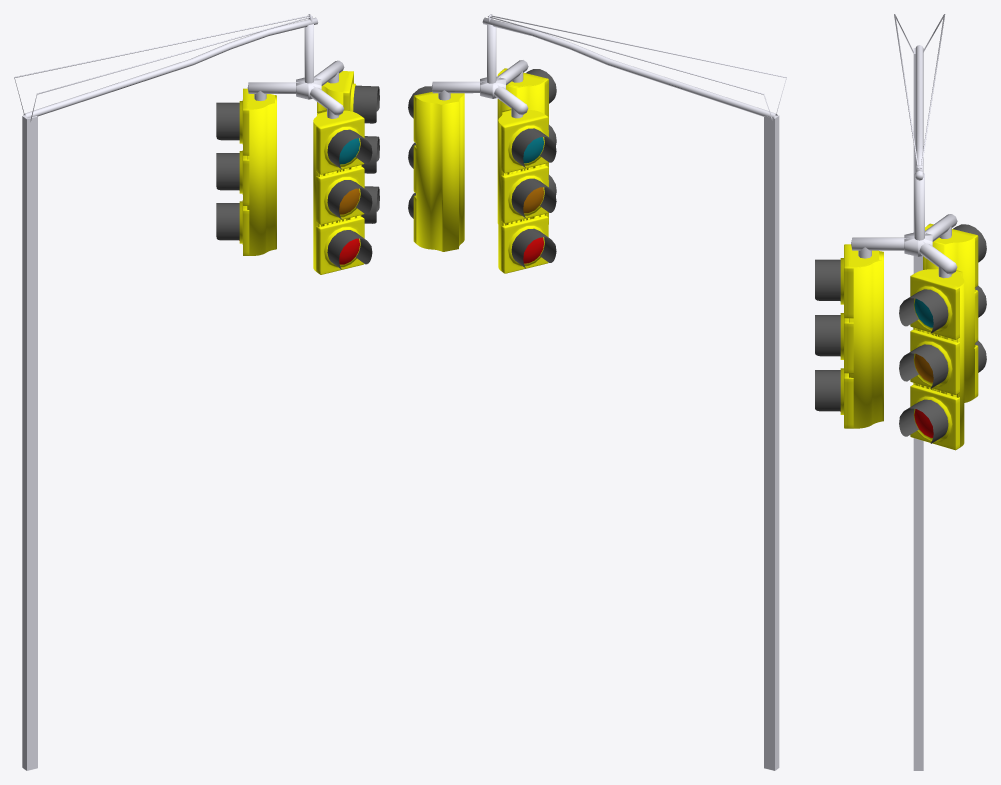
Rendered from Traffic Light LowPoly.fbx.
3 views of the same model, side by side, from view 1: azimuth 30°, elevation 25°; view 2: azimuth 150°, elevation 25°; view 3: azimuth 270°, elevation 25° (orthographic). The views are drawn at different scales.
Visible parts, largest first — view 1: Cube, Torus.002, Group.002|Body|Dupli|3, Covers, Group.002|Shades|Dupli|1, Shades, Group.001|Shades|Dupli|1, Group.002|Covers|Dupli|2, Lenses, Group|Body|Dupli|3; view 2: Cube, Group.001|Body|Dupli|3, Torus.002, Group.002|Covers|Dupli|2, Group.002|Shades|Dupli|1, Group.002|Body|Dupli|3, Group.002|Lenses|Dupli|, Group|Body|Dupli|3; view 3: Group|Body|Dupli|3, Torus.002, Group.001|Covers|Dupli|2, Cube, Group.001|Shades|Dupli|1, Group.002|Body|Dupli|3, Shades, Group.001|Body|Dupli|3, Group|Covers|Dupli|2, Covers, Group.001|Lenses|Dupli|, Group.002|Shades|Dupli|1 (+3 smaller).
Part boxes in pixels (x1=…): Cube: x1=22, y1=115, x2=37, y2=770; Torus.002: x1=14, y1=14, x2=344, y2=121; Group.002|Body|Dupli|3: x1=247, y1=94, x2=276, y2=255; Covers: x1=317, y1=116, x2=364, y2=274; Group.002|Shades|Dupli|1: x1=216, y1=102, x2=239, y2=240; Shades: x1=327, y1=129, x2=372, y2=269; Group.001|Shades|Dupli|1: x1=353, y1=85, x2=379, y2=223; Group.002|Covers|Dupli|2: x1=239, y1=88, x2=249, y2=255; Lenses: x1=339, y1=138, x2=359, y2=264; Group|Body|Dupli|3: x1=313, y1=109, x2=356, y2=271; Cube: x1=764, y1=115, x2=779, y2=770; Group.001|Body|Dupli|3: x1=416, y1=93, x2=464, y2=251; Torus.002: x1=431, y1=14, x2=786, y2=120; Group.002|Covers|Dupli|2: x1=501, y1=115, x2=548, y2=273; Group.002|Shades|Dupli|1: x1=511, y1=128, x2=556, y2=268; Group.002|Body|Dupli|3: x1=498, y1=109, x2=545, y2=270; Group.002|Lenses|Dupli|: x1=523, y1=137, x2=543, y2=263; Group|Body|Dupli|3: x1=497, y1=73, x2=544, y2=223; Group|Body|Dupli|3: x1=853, y1=250, x2=883, y2=428; Torus.002: x1=851, y1=14, x2=957, y2=278; Group.001|Covers|Dupli|2: x1=910, y1=274, x2=959, y2=450; Cube: x1=913, y1=48, x2=923, y2=770; Group.001|Shades|Dupli|1: x1=899, y1=289, x2=948, y2=443; Group.002|Body|Dupli|3: x1=923, y1=225, x2=975, y2=402; Shades: x1=815, y1=259, x2=840, y2=411; Group.001|Body|Dupli|3: x1=913, y1=269, x2=964, y2=447; Group|Covers|Dupli|2: x1=843, y1=267, x2=853, y2=428; Covers: x1=840, y1=244, x2=851, y2=428; Group.001|Lenses|Dupli|: x1=914, y1=298, x2=933, y2=437; Group.002|Shades|Dupli|1: x1=953, y1=224, x2=986, y2=372.
Bounding box in the file's own units: 1966 × 3549 × 734.
